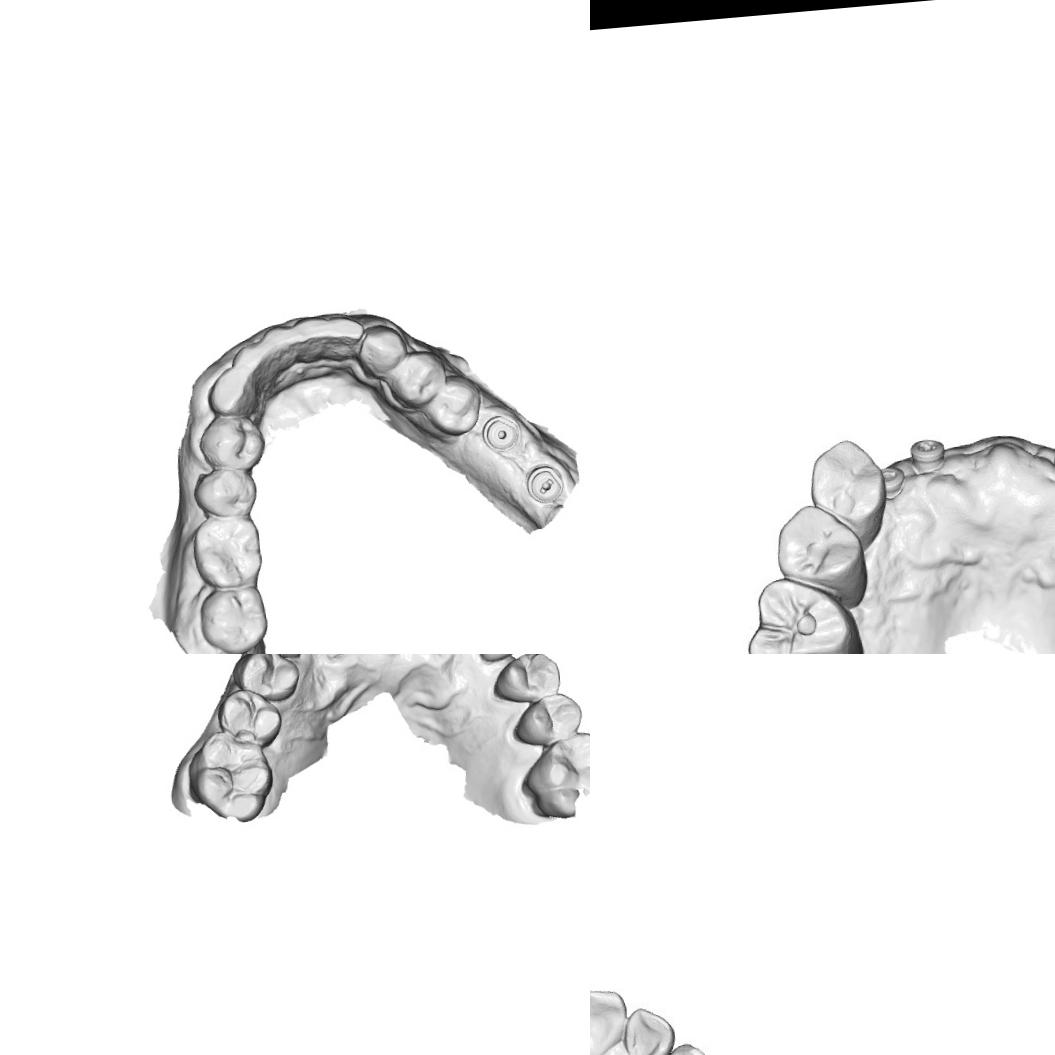canine: (354, 322, 409, 374), (204, 364, 256, 418), (653, 1040, 717, 1055)
implant: (477, 408, 524, 458)
implant_minus: (521, 461, 570, 507), (870, 460, 904, 498)
implant_plus: (907, 432, 947, 476)
incisor: (622, 1001, 671, 1055), (590, 984, 626, 1055), (324, 311, 366, 362), (230, 338, 270, 387), (293, 313, 330, 364), (265, 323, 296, 371)
molar: (737, 570, 865, 654), (182, 725, 278, 828), (516, 729, 590, 822), (188, 514, 264, 592), (196, 583, 271, 654)
premolar: (775, 503, 865, 592), (806, 438, 890, 524), (213, 686, 284, 752), (511, 688, 586, 748), (196, 411, 267, 469), (190, 464, 260, 522), (423, 372, 484, 438), (228, 654, 303, 706), (388, 349, 448, 412), (489, 654, 563, 705)
